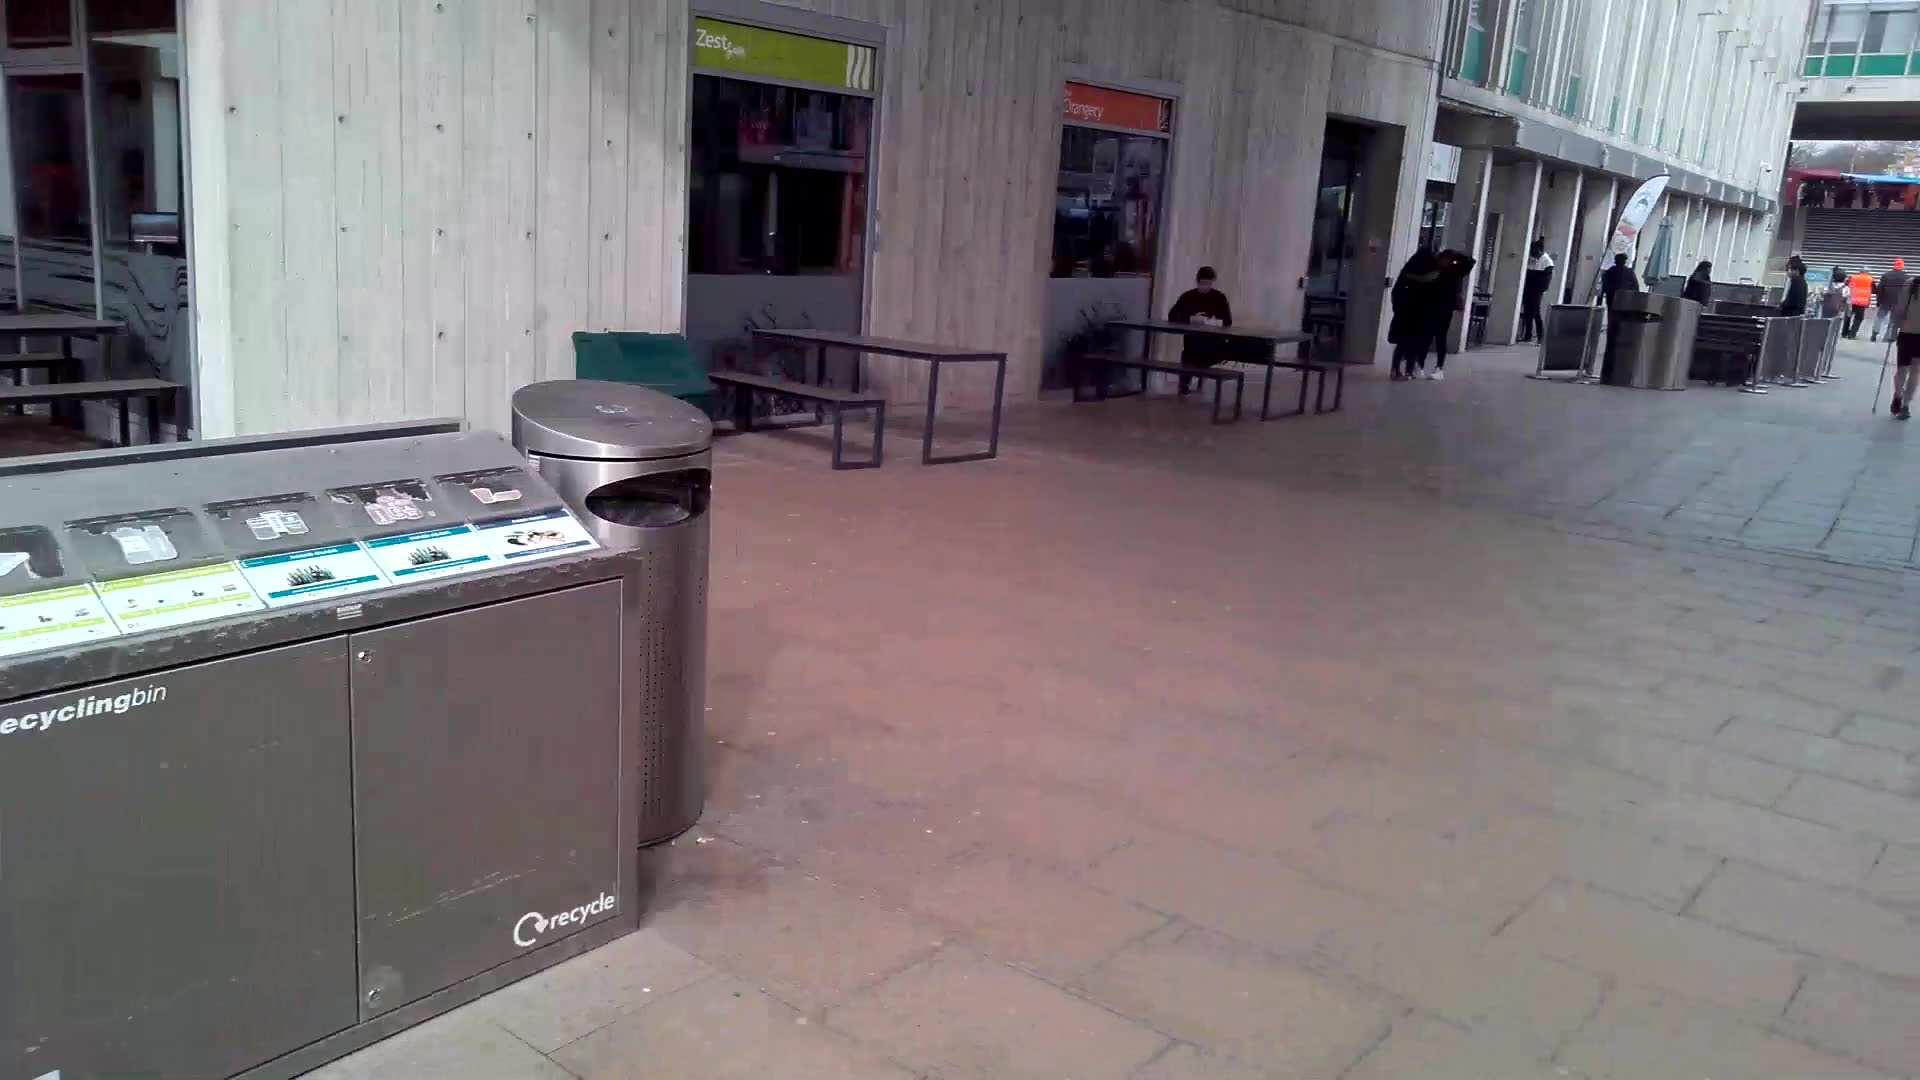Bin: (1, 435, 642, 997), (516, 378, 706, 851), (1616, 281, 1694, 401)
Person: (1169, 263, 1233, 409), (1384, 240, 1445, 388), (1526, 233, 1553, 343)
